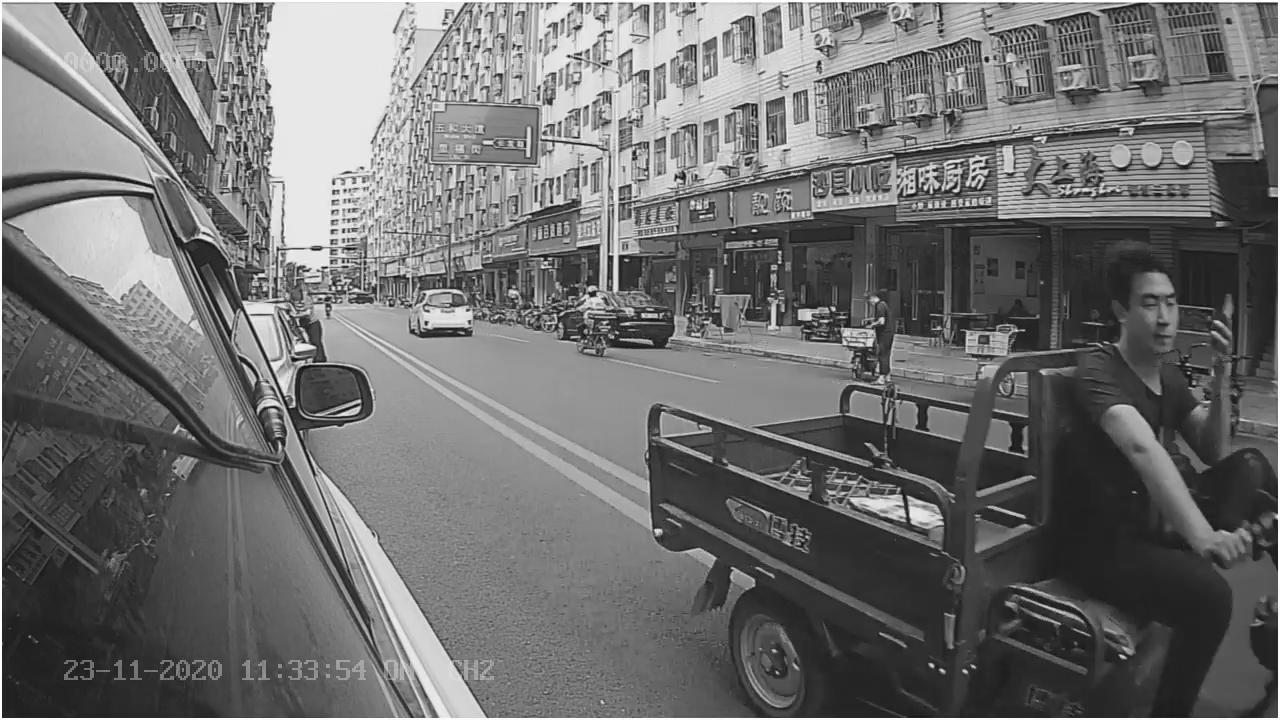person: (1067, 243, 1265, 561)
